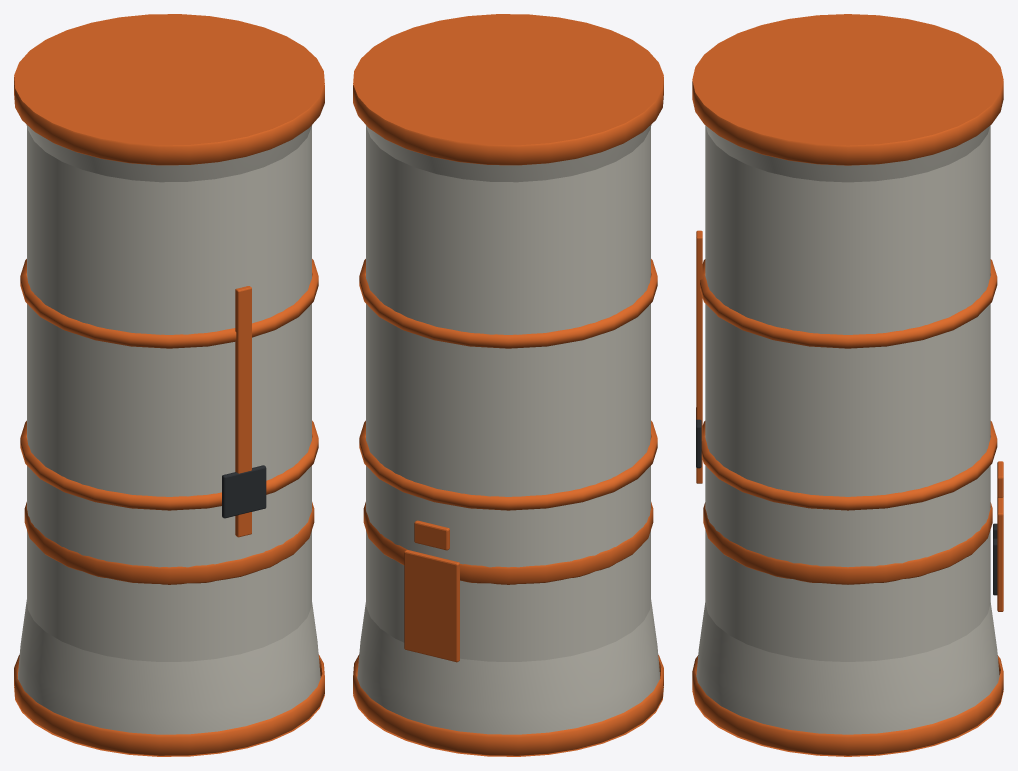
The model's file is procedural-srb-flare.glb.
The picture shows the model from 3 angles, left to right: view 1: azimuth 30°, elevation 25°; view 2: azimuth 150°, elevation 25°; view 3: azimuth 270°, elevation 25°; orthographic projection.
Visible parts, largest first — view 1: SM_SRB_Flare_CaseSegment_03, SM_SRB_Flare_CaseSegment_02, SM_SRB_Flare_CaseSegment_01, SM_SRB_Flare_TopFace, SM_SRB_Flare_AftSkirt, SM_SRB_Flare_AftInterface, SM_SRB_Flare_TopInterface, SM_SRB_Flare_IDStripe_01, SM_SRB_Flare_JointBand_02, SM_SRB_Flare_TopClosure, SM_SRB_Flare_JointBand_01, SM_SRB_Flare_IgniterRaceway (+2 smaller); view 2: SM_SRB_Flare_CaseSegment_03, SM_SRB_Flare_CaseSegment_02, SM_SRB_Flare_CaseSegment_01, SM_SRB_Flare_TopFace, SM_SRB_Flare_AftSkirt, SM_SRB_Flare_AftInterface, SM_SRB_Flare_TopInterface, SM_SRB_Flare_RadialRail, SM_SRB_Flare_JointBand_01, SM_SRB_Flare_JointBand_02, SM_SRB_Flare_TopClosure, SM_SRB_Flare_IDStripe_01 (+2 smaller); view 3: SM_SRB_Flare_CaseSegment_03, SM_SRB_Flare_CaseSegment_02, SM_SRB_Flare_CaseSegment_01, SM_SRB_Flare_TopFace, SM_SRB_Flare_AftSkirt, SM_SRB_Flare_AftInterface, SM_SRB_Flare_TopInterface, SM_SRB_Flare_IDStripe_01, SM_SRB_Flare_JointBand_02, SM_SRB_Flare_JointBand_01, SM_SRB_Flare_TopClosure, SM_SRB_Flare_IgniterRaceway (+2 smaller).
Boxes of the visible parts, left/top/right/bottom form: SM_SRB_Flare_CaseSegment_03: left=27, top=126, right=311, bottom=334; SM_SRB_Flare_CaseSegment_02: left=27, top=304, right=311, bottom=496; SM_SRB_Flare_CaseSegment_01: left=27, top=466, right=311, bottom=661; SM_SRB_Flare_TopFace: left=14, top=14, right=324, bottom=145; SM_SRB_Flare_AftSkirt: left=18, top=600, right=320, bottom=734; SM_SRB_Flare_AftInterface: left=14, top=654, right=324, bottom=755; SM_SRB_Flare_TopInterface: left=14, top=77, right=324, bottom=165; SM_SRB_Flare_IDStripe_01: left=24, top=502, right=314, bottom=584; SM_SRB_Flare_JointBand_02: left=20, top=259, right=318, bottom=348; SM_SRB_Flare_TopClosure: left=26, top=124, right=311, bottom=182; SM_SRB_Flare_JointBand_01: left=20, top=420, right=318, bottom=510; SM_SRB_Flare_IgniterRaceway: left=235, top=286, right=251, bottom=537; SM_SRB_Flare_CaseSegment_03: left=366, top=126, right=650, bottom=334; SM_SRB_Flare_CaseSegment_02: left=366, top=304, right=650, bottom=496; SM_SRB_Flare_CaseSegment_01: left=366, top=466, right=650, bottom=661; SM_SRB_Flare_TopFace: left=353, top=14, right=663, bottom=145; SM_SRB_Flare_AftSkirt: left=357, top=600, right=659, bottom=734; SM_SRB_Flare_AftInterface: left=353, top=654, right=663, bottom=755; SM_SRB_Flare_TopInterface: left=353, top=77, right=663, bottom=165; SM_SRB_Flare_RadialRail: left=404, top=549, right=459, bottom=662; SM_SRB_Flare_JointBand_01: left=359, top=420, right=657, bottom=510; SM_SRB_Flare_JointBand_02: left=359, top=259, right=657, bottom=348; SM_SRB_Flare_TopClosure: left=366, top=124, right=651, bottom=182; SM_SRB_Flare_IDStripe_01: left=363, top=502, right=653, bottom=584; SM_SRB_Flare_CaseSegment_03: left=705, top=125, right=990, bottom=334; SM_SRB_Flare_CaseSegment_02: left=705, top=304, right=990, bottom=496; SM_SRB_Flare_CaseSegment_01: left=705, top=465, right=990, bottom=661; SM_SRB_Flare_TopFace: left=692, top=14, right=1003, bottom=145; SM_SRB_Flare_AftSkirt: left=696, top=602, right=999, bottom=734; SM_SRB_Flare_AftInterface: left=692, top=655, right=1003, bottom=755; SM_SRB_Flare_TopInterface: left=692, top=81, right=1003, bottom=165; SM_SRB_Flare_IDStripe_01: left=703, top=502, right=992, bottom=584; SM_SRB_Flare_JointBand_02: left=700, top=259, right=997, bottom=348; SM_SRB_Flare_JointBand_01: left=701, top=421, right=997, bottom=510; SM_SRB_Flare_TopClosure: left=706, top=126, right=989, bottom=182; SM_SRB_Flare_IgniterRaceway: left=696, top=230, right=702, bottom=483.
Bounding box in the file's own units: 1.2 × 2.6 × 1.2.
